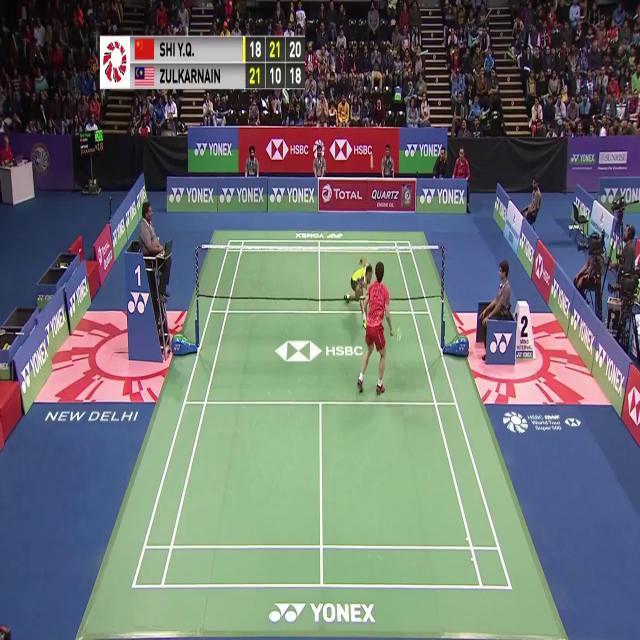Shuttlecock: (368, 154, 374, 166)
